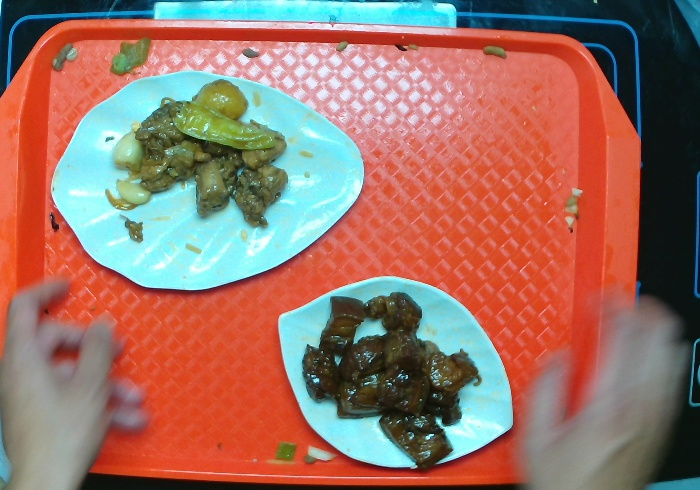RJxy-Bai_Ye_Pan: (48, 67, 367, 295)
RJxy-Da_Du_Pan: (272, 273, 517, 472)
